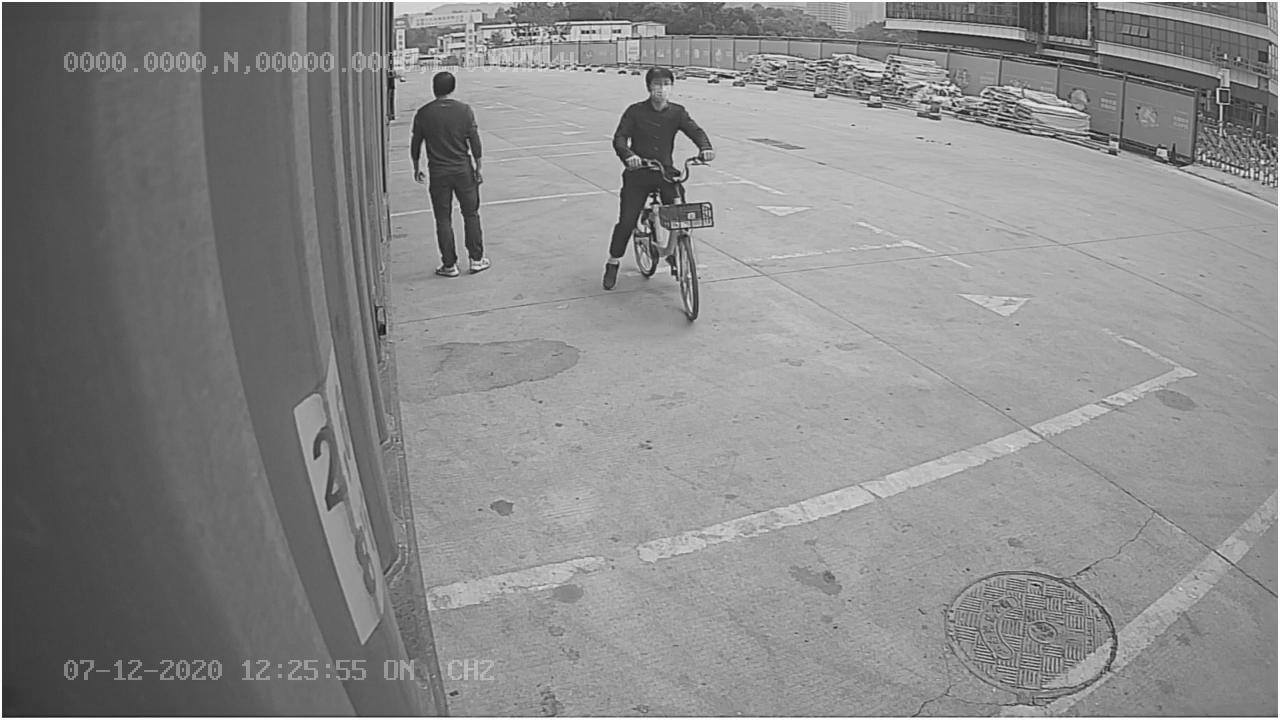person: (407, 69, 492, 280)
